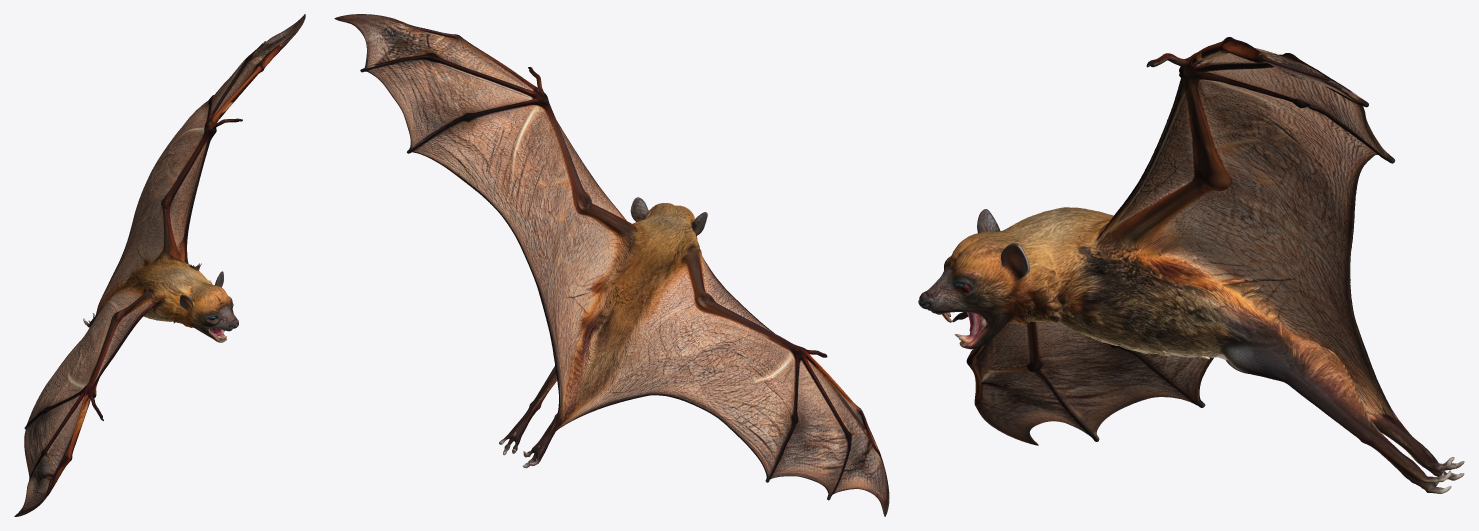
3 renders of one model, left to right at view 1: azimuth 30°, elevation 25°; view 2: azimuth 150°, elevation 25°; view 3: azimuth 270°, elevation 25°, orthographic. The views are drawn at different scales.
Visible parts, largest first — view 1: mesh_0; view 2: mesh_0; view 3: mesh_0.
Boxes of the visible parts, box(x1,y1,x2,y2) form: mesh_0: box(14, 14, 305, 516); mesh_0: box(334, 14, 889, 516); mesh_0: box(918, 37, 1464, 493).
Size of the model in its own units: 1.89 by 1.8 by 1.23.
1 material, 1 textured.
